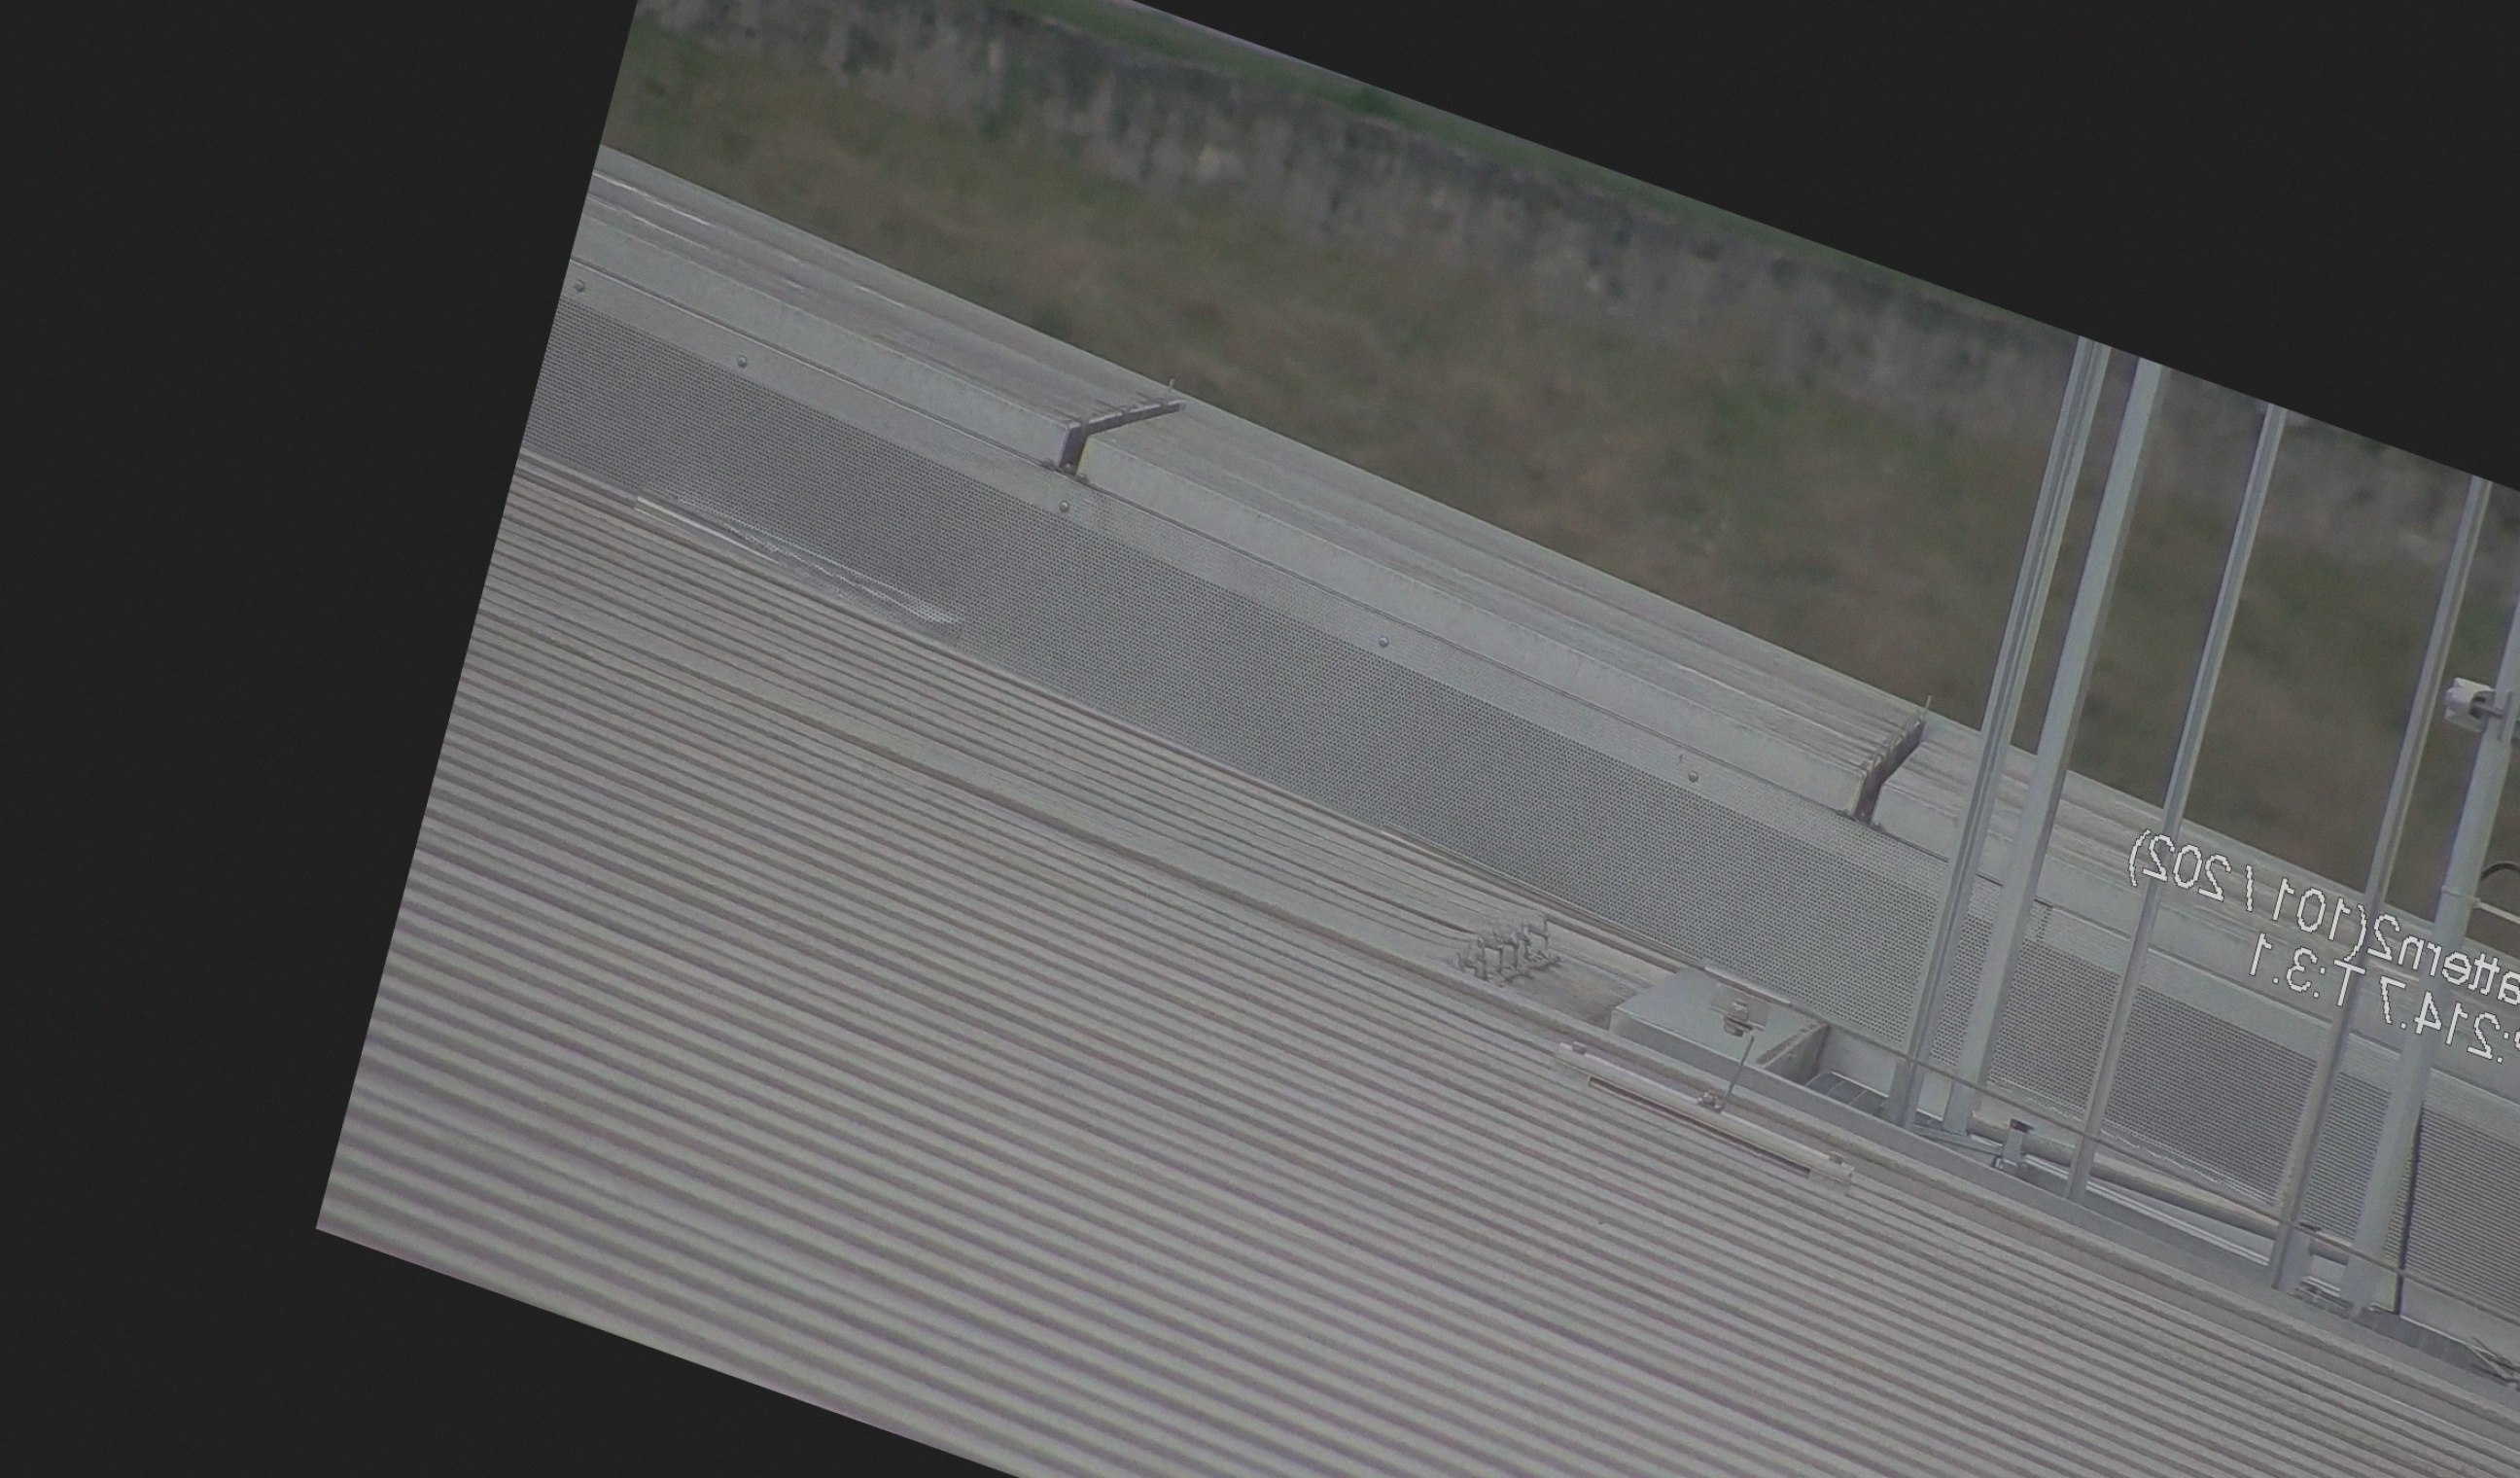Other: (1838, 677, 1954, 843)
